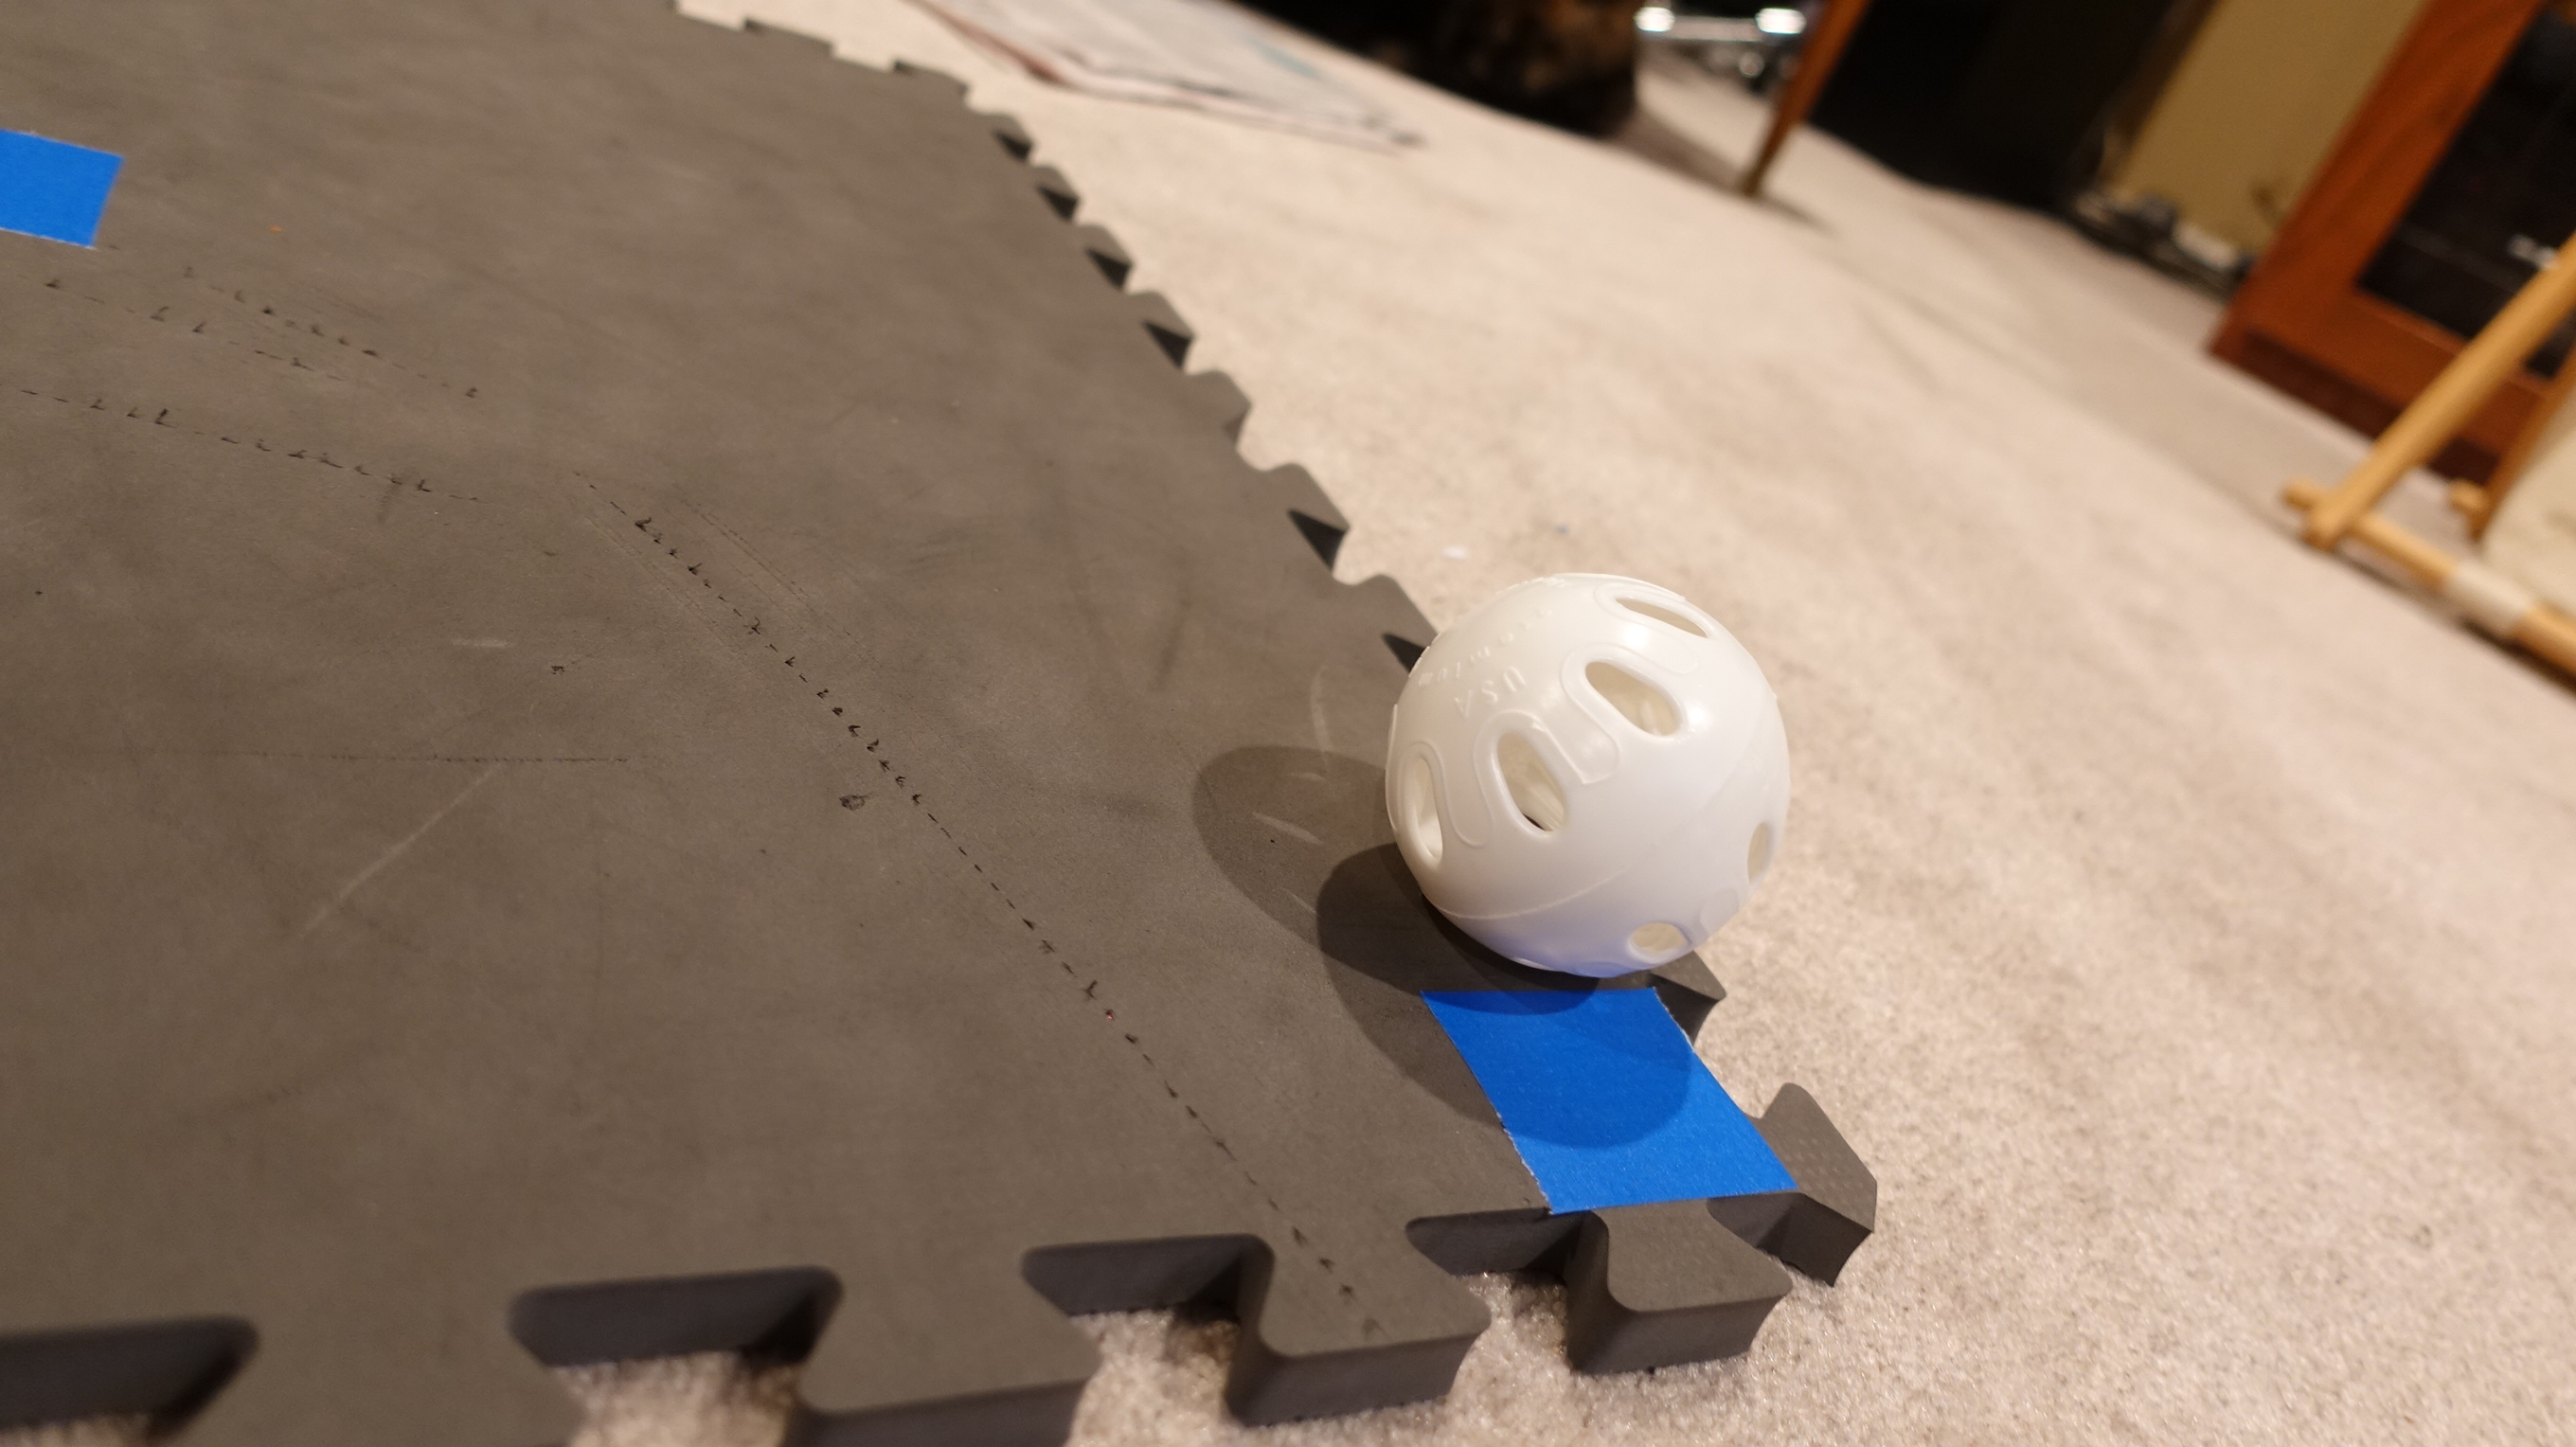silver: (1389, 545, 1798, 1007)
